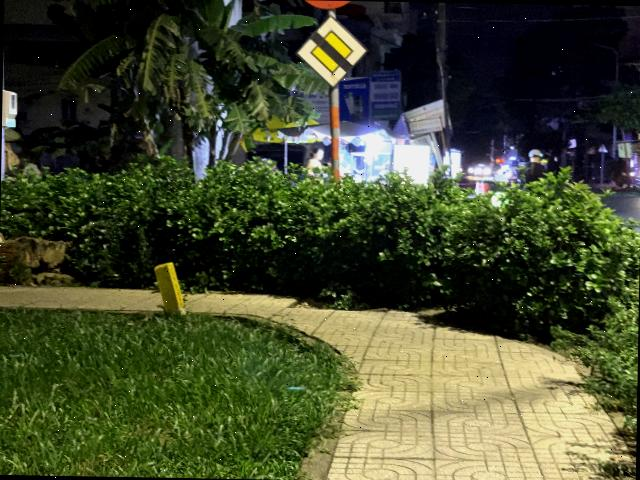het-duong-uu-tien: (294, 13, 368, 88)
